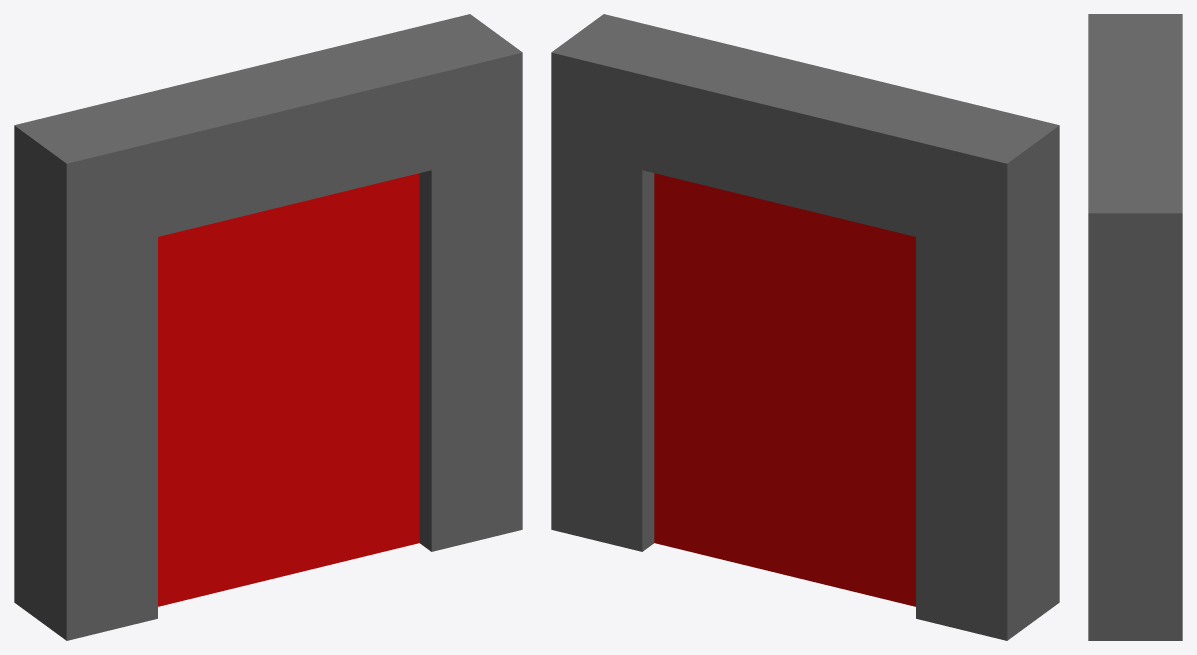
The model's file is door.fbx.
3 views of the same model, side by side, from view 1: azimuth 30°, elevation 25°; view 2: azimuth 150°, elevation 25°; view 3: azimuth 270°, elevation 25° (orthographic). The views are drawn at different scales.
Parts seen in each view (by area): view 1: Arch, Door; view 2: Arch, Door; view 3: Arch.
Part boxes in pixels (x1,y1,x2,y2): Arch: [14, 14, 522, 640]; Door: [158, 173, 419, 606]; Arch: [551, 14, 1059, 640]; Door: [654, 173, 915, 606]; Arch: [1088, 14, 1182, 640].
Size of the model in its own units: 200 by 200 by 40.
